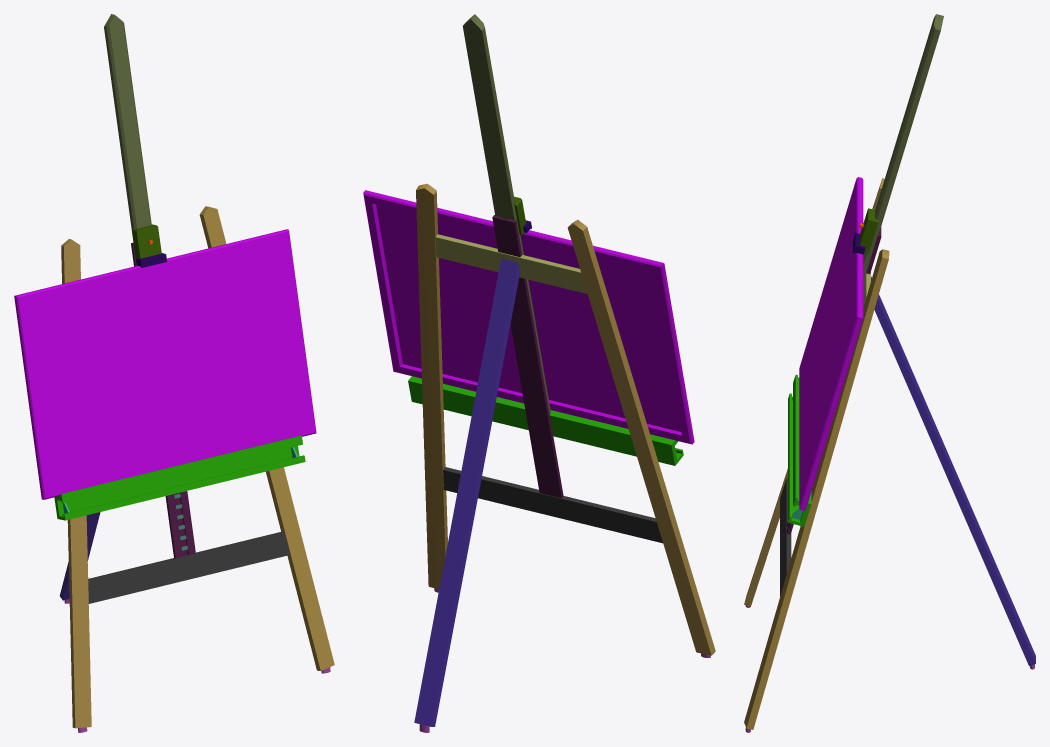
Rendered from easeldone.fbx.
3 views of the same model, side by side, from view 1: azimuth 30°, elevation 25°; view 2: azimuth 150°, elevation 25°; view 3: azimuth 270°, elevation 25° (orthographic). The views are drawn at different scales.
Visible parts, largest first — view 1: pasted__polySurface55, polySurface91, pasted__polySurface102, pasted__polySurface96, polySurface100, polySurface103, polySurface92, pasted__polySurface78, pasted__polySurface98; view 2: pasted__polySurface55, pasted__polySurface98, pasted__polySurface96, polySurface100, polySurface92, polySurface103, polySurface91, pasted__polySurface102, pasted__polySurface88; view 3: pasted__polySurface55, polySurface100, pasted__polySurface98, polySurface103, polySurface91, pasted__polySurface96, pasted__polySurface102, pasted__polySurface78.
Part boxes in pixels (bbox=[...]): pasted__polySurface55: bbox=[14, 229, 316, 499]; polySurface91: bbox=[54, 435, 305, 520]; pasted__polySurface102: bbox=[88, 531, 289, 603]; pasted__polySurface96: bbox=[61, 239, 91, 728]; polySurface100: bbox=[199, 206, 334, 670]; polySurface103: bbox=[104, 14, 151, 229]; polySurface92: bbox=[131, 243, 195, 558]; pasted__polySurface78: bbox=[131, 224, 161, 259]; pasted__polySurface98: bbox=[59, 512, 100, 600]; pasted__polySurface55: bbox=[363, 190, 694, 444]; pasted__polySurface98: bbox=[414, 258, 519, 726]; pasted__polySurface96: bbox=[567, 219, 715, 655]; polySurface100: bbox=[416, 183, 447, 589]; polySurface92: bbox=[492, 215, 563, 498]; polySurface103: bbox=[462, 14, 550, 414]; polySurface91: bbox=[408, 376, 683, 465]; pasted__polySurface102: bbox=[443, 467, 662, 543]; pasted__polySurface88: bbox=[435, 234, 587, 293]; pasted__polySurface55: bbox=[799, 177, 863, 510]; polySurface100: bbox=[744, 249, 889, 729]; pasted__polySurface98: bbox=[871, 276, 1035, 666]; polySurface103: bbox=[863, 14, 943, 281]; polySurface91: bbox=[788, 374, 811, 526]; pasted__polySurface96: bbox=[744, 178, 884, 606]; pasted__polySurface102: bbox=[780, 478, 791, 596]; pasted__polySurface78: bbox=[860, 208, 878, 253].
Size of the model in its own units: 137 by 299 by 121.
